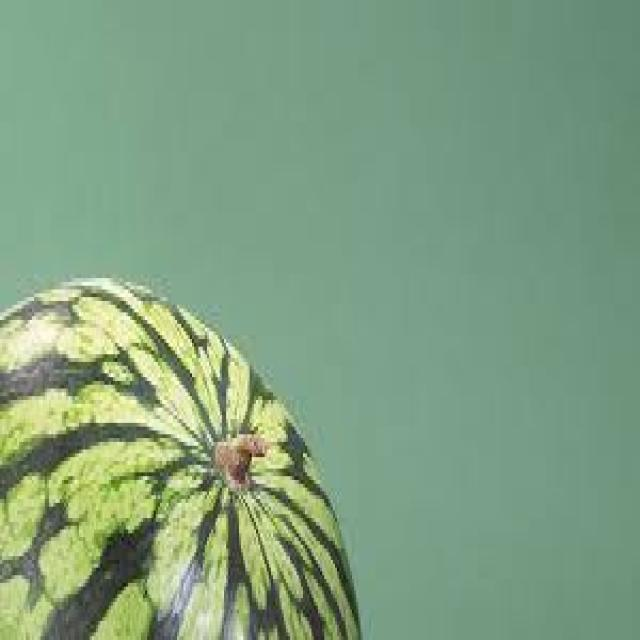watermelon: (0, 271, 361, 636)
